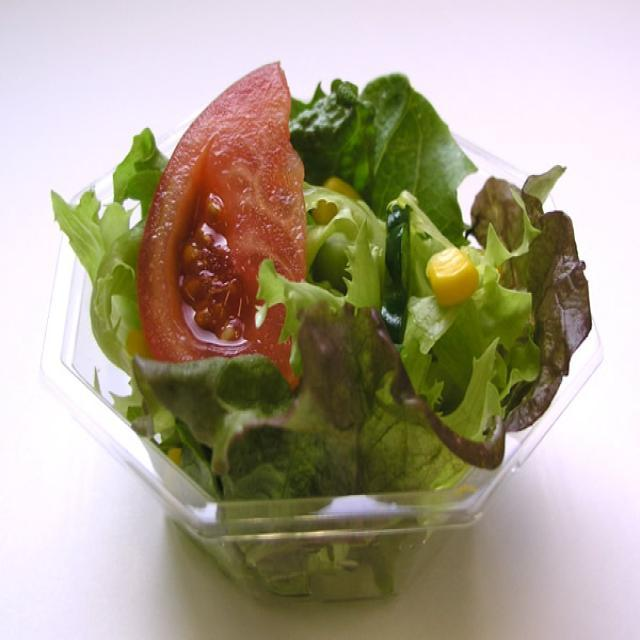Green Salad: (74, 65, 595, 498)
Tomato: (152, 68, 302, 357)
